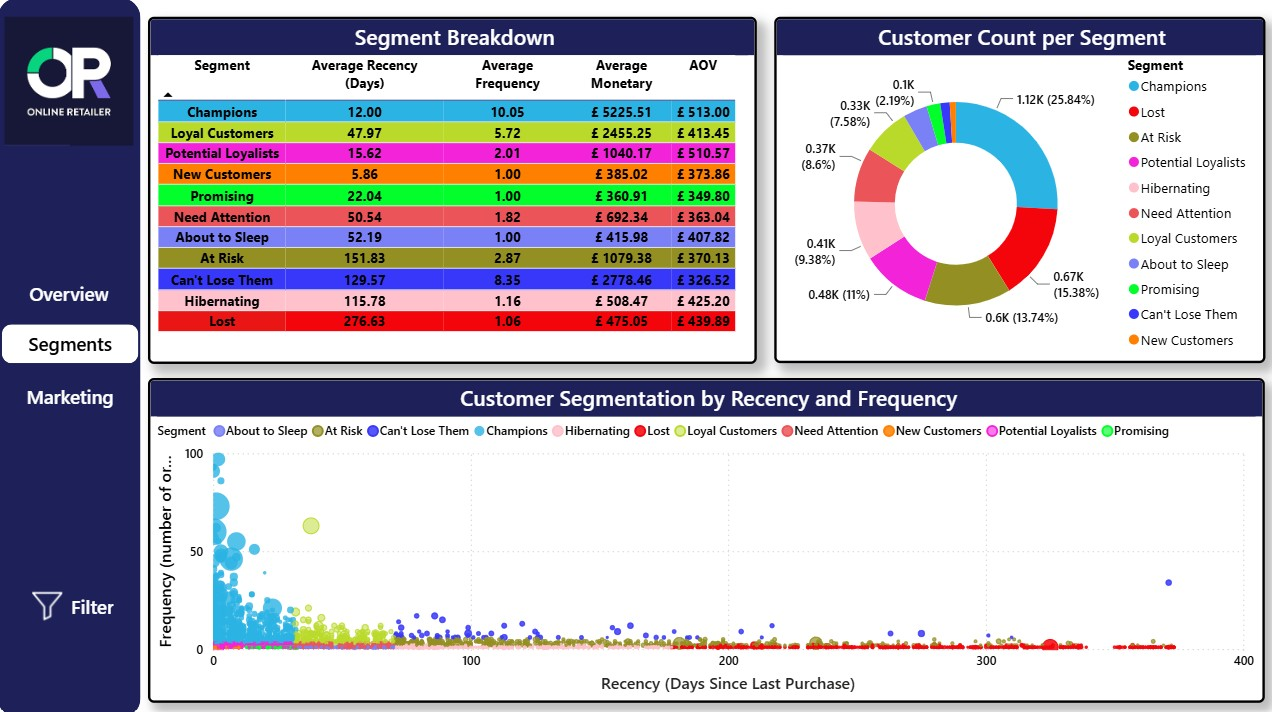

What the dashboard file says about the page in this screenshot:
{"tool":"powerbi","page":{"name":"Segments","canvas":[1280,720],"ordinal":1},"visuals":[{"type":"shape","box":[0,0,142.4,720.2],"z":0},{"type":"image","box":[2.3,18.4,136.7,128.7],"z":1000},{"type":"actionButton","box":[2.3,275.7,136.7,39.1],"z":2000},{"type":"actionButton","box":[30,588.8,91.2,38.8],"z":3000},{"type":"actionButton","box":[3.4,326.2,136.7,39.1],"z":4000},{"type":"scatterChart","title":"Customer Segmentation by Recency and Frequency","fields":{"X":["Avg(dim_customer.Recency)"],"Y":["Avg(dim_customer.Frequency)"],"Series":["dim_customer.Segment"],"Category":["dim_customer.CustomerID"],"Size":["Sum(dim_customer.Monetary)"]},"box":[150.3,379.6,1116.8,325.2],"z":5000},{"type":"actionButton","box":[3.4,379.1,136.7,39.1],"z":6000},{"type":"donutChart","title":"Customer Count per Segment","fields":{"Category":["dim_customer.Segment"],"Y":["CountNonNull(dim_customer.CustomerID)"]},"box":[776,18.1,491,346],"z":7000},{"type":"tableEx","title":"Segment Breakdown","fields":{"Values":["dim_segment.Segment","Avg(dim_customer.Recency)","Avg(dim_customer.Frequency)","Avg(dim_customer.Monetary)","fact_sales.AOV"]},"box":[150.3,18.1,608.9,347.2],"z":9000}]}

Visuals, with their boxes on the page's 1280x720 design canvas (x1, y1, x2, y2). These are canvas units, not pixel positions in the 1272x712 screenshot, which may show the page scaled, cropped or inside an application window:
shape: rect(0, 0, 142, 720)
image: rect(2, 18, 139, 147)
actionButton: rect(2, 276, 139, 315)
actionButton: rect(30, 589, 121, 628)
actionButton: rect(3, 326, 140, 365)
"Customer Segmentation by Recency and Frequency" scatterChart: rect(150, 380, 1267, 705)
actionButton: rect(3, 379, 140, 418)
"Customer Count per Segment" donutChart: rect(776, 18, 1267, 364)
"Segment Breakdown" tableEx: rect(150, 18, 759, 365)
